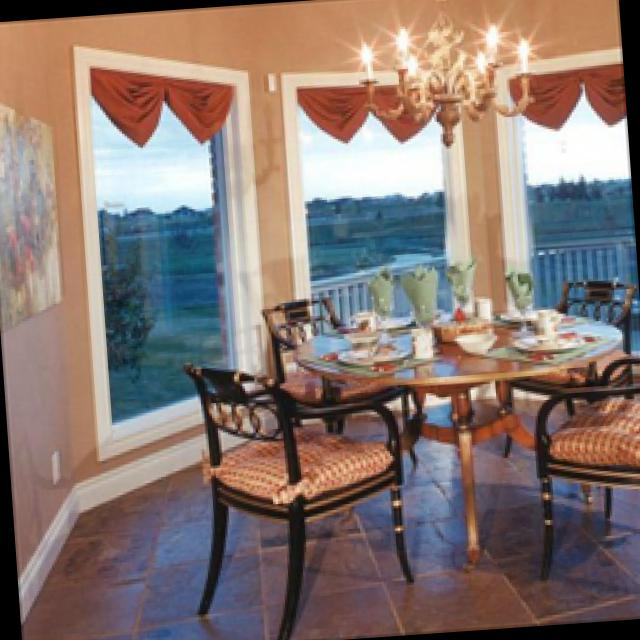2001: (70, 42, 261, 454), (87, 71, 228, 417), (278, 70, 471, 313), (490, 46, 636, 332)
Window: (84, 66, 239, 425)
bowl -X: (449, 332, 494, 350)
ceiling lamps: (359, 0, 530, 141)
chair -occluded-: (186, 359, 413, 639), (532, 355, 640, 577), (257, 295, 343, 368), (552, 281, 633, 346)
chandeliers: (348, 15, 528, 146)
curtain crop: (91, 65, 231, 139), (294, 82, 421, 138), (511, 63, 620, 128)
glass ceiling: (402, 302, 435, 346)
napkin ring: (397, 263, 434, 326), (502, 272, 530, 316)
painting crop: (0, 100, 58, 327)
place mat: (490, 323, 612, 362), (300, 344, 435, 372)
plate food: (512, 326, 575, 347), (335, 342, 400, 358), (343, 314, 378, 331)
table -X: (297, 305, 620, 565)
table tenis: (284, 246, 636, 375)
wall outlets: (44, 444, 60, 479)
